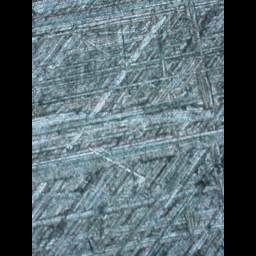d: (32, 110, 224, 180)
